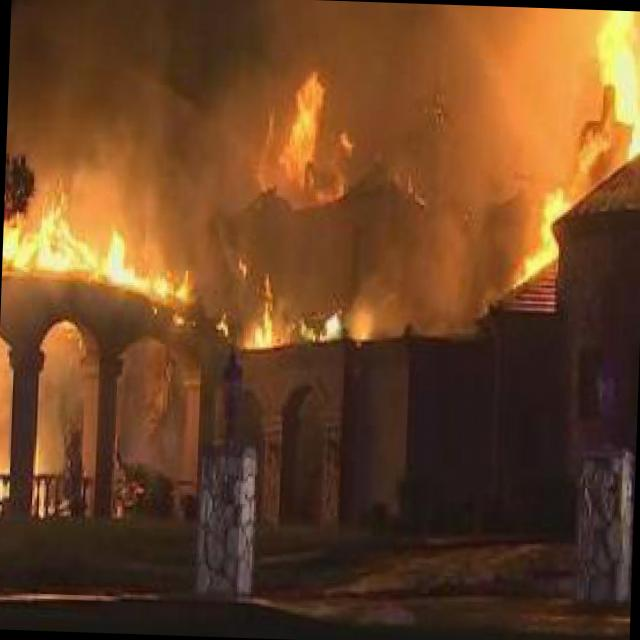fire: (0, 195, 176, 309), (266, 17, 344, 218), (238, 277, 377, 367), (503, 180, 583, 312), (591, 9, 640, 186), (0, 437, 8, 481)
smoke: (376, 180, 505, 371)
